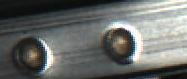joints: (9, 34, 51, 75), (101, 20, 139, 65)
